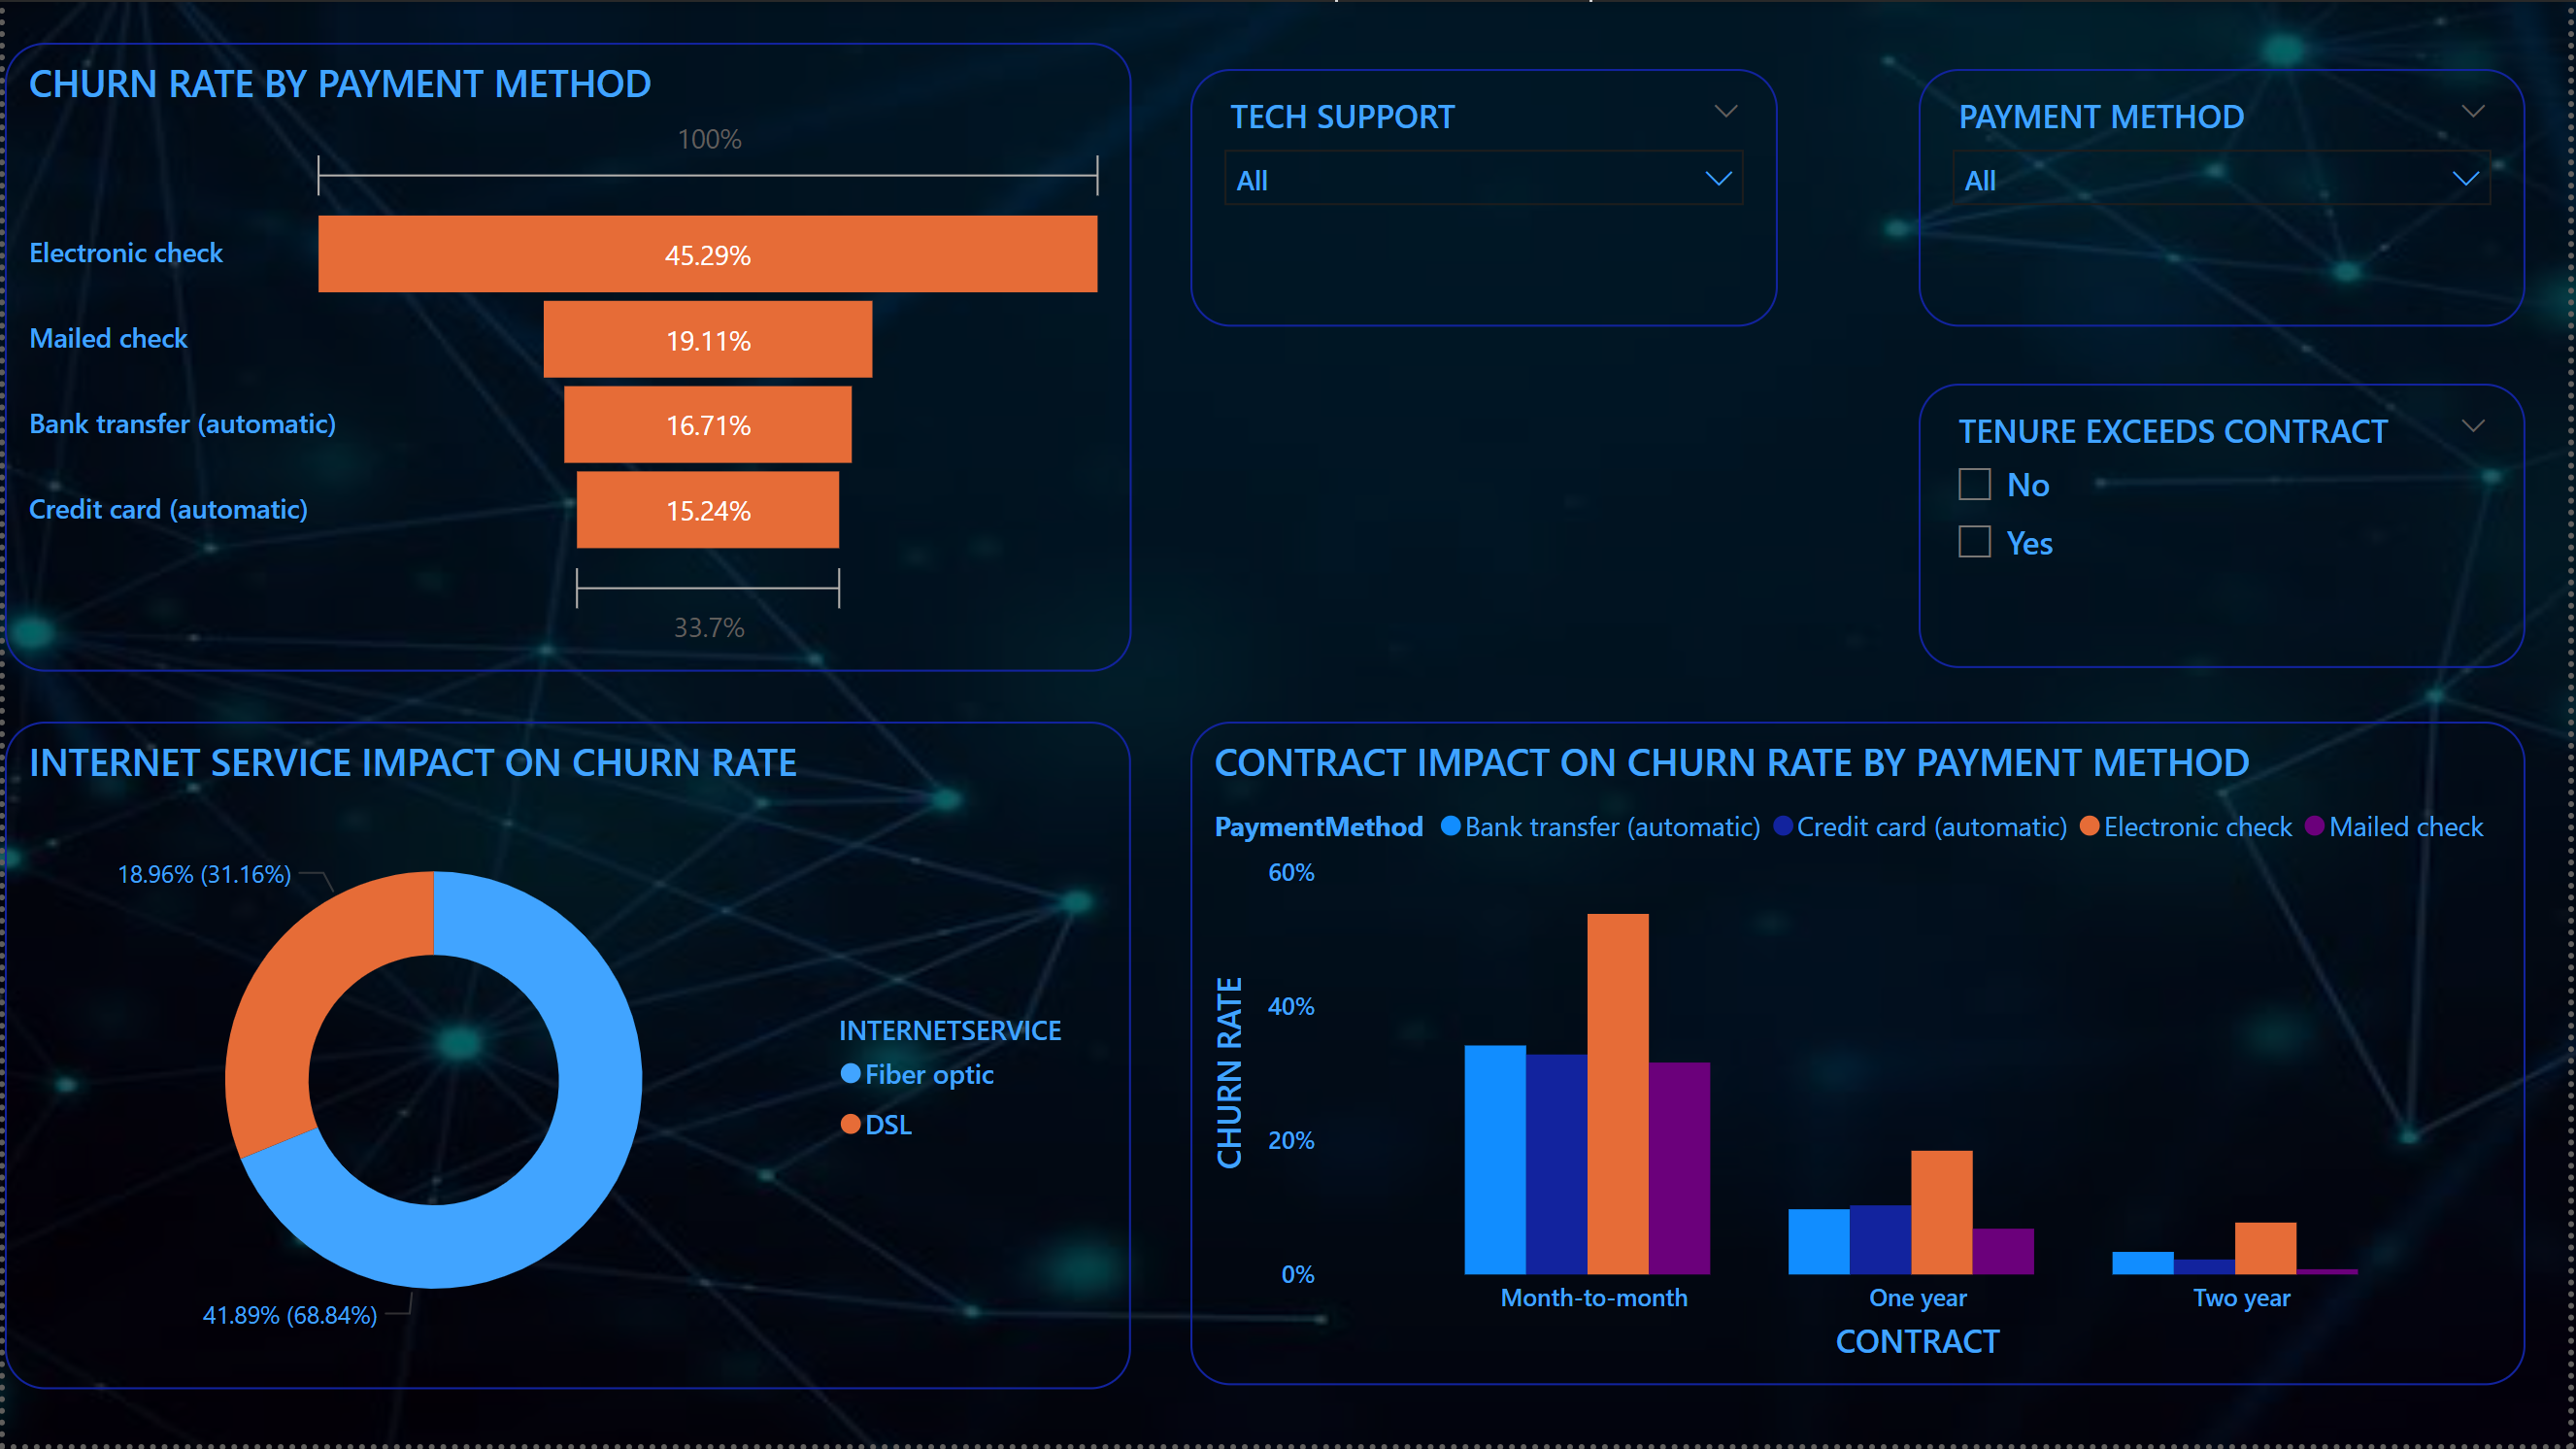

Layout of this report page (visuals, bound fields, positions):
{"tool":"powerbi","page":{"name":"Page 3","canvas":[1280,720],"ordinal":2},"visuals":[{"type":"donutChart","title":"INTERNET SERVICE IMPACT ON CHURN RATE","fields":{"Category":["Customer Churn.InternetService"],"Y":["Customer Churn.Churn Rate"]},"box":[0,359.8,562.4,333.3],"z":1000},{"type":"slicer","fields":{"Values":["Customer Churn.PaymentMethod"]},"box":[956.2,34.1,303,128.8],"z":2000},{"type":"slicer","fields":{"Values":["Customer Churn.TechSupport"]},"box":[592.7,34.1,293.5,128.8],"z":3000},{"type":"clusteredColumnChart","title":"CONTRACT IMPACT ON CHURN RATE BY PAYMENT METHOD","fields":{"Category":["Customer Churn.Contract"],"Y":["Customer Churn.Churn Rate"],"Series":["Customer Churn.PaymentMethod"]},"box":[592.7,359.8,666.5,331.4],"z":4000},{"type":"slicer","fields":{"Values":["Customer Churn.TenureExceedsContract"]},"box":[956.2,191.2,303,142],"z":5000},{"type":"funnel","title":"CHURN RATE BY PAYMENT METHOD","fields":{"Y":["Customer Churn.Churn Rate"],"Category":["Customer Churn.PaymentMethod"]},"box":[0,19.7,562.7,313.9],"z":5001}]}

Visuals, with their boxes in screenshot pixels (x1, y1, x2, y2), scaled from the page's 1280x720 canvas onto the 2576x1449 screenshot:
"INTERNET SERVICE IMPACT ON CHURN RATE" donutChart: <bbox>0, 724, 1132, 1395</bbox>
slicer - Customer Churn.PaymentMethod: <bbox>1924, 69, 2534, 328</bbox>
slicer - Customer Churn.TechSupport: <bbox>1192, 69, 1784, 328</bbox>
"CONTRACT IMPACT ON CHURN RATE BY PAYMENT METHOD" clusteredColumnChart: <bbox>1192, 724, 2534, 1391</bbox>
slicer - Customer Churn.TenureExceedsContract: <bbox>1924, 385, 2534, 670</bbox>
"CHURN RATE BY PAYMENT METHOD" funnel: <bbox>0, 40, 1132, 671</bbox>
